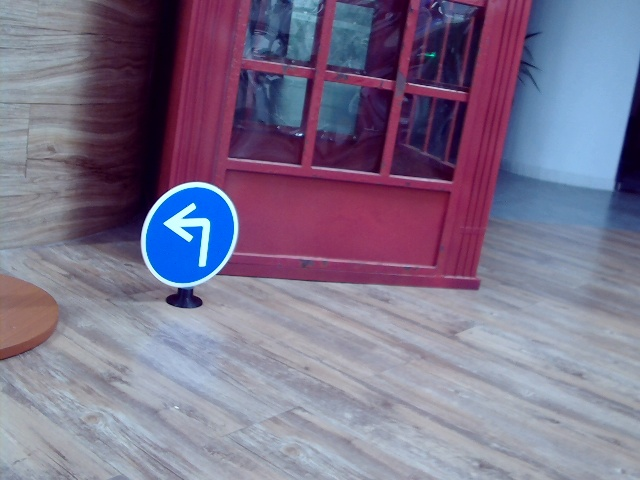turn_left: (165, 199, 214, 267)
